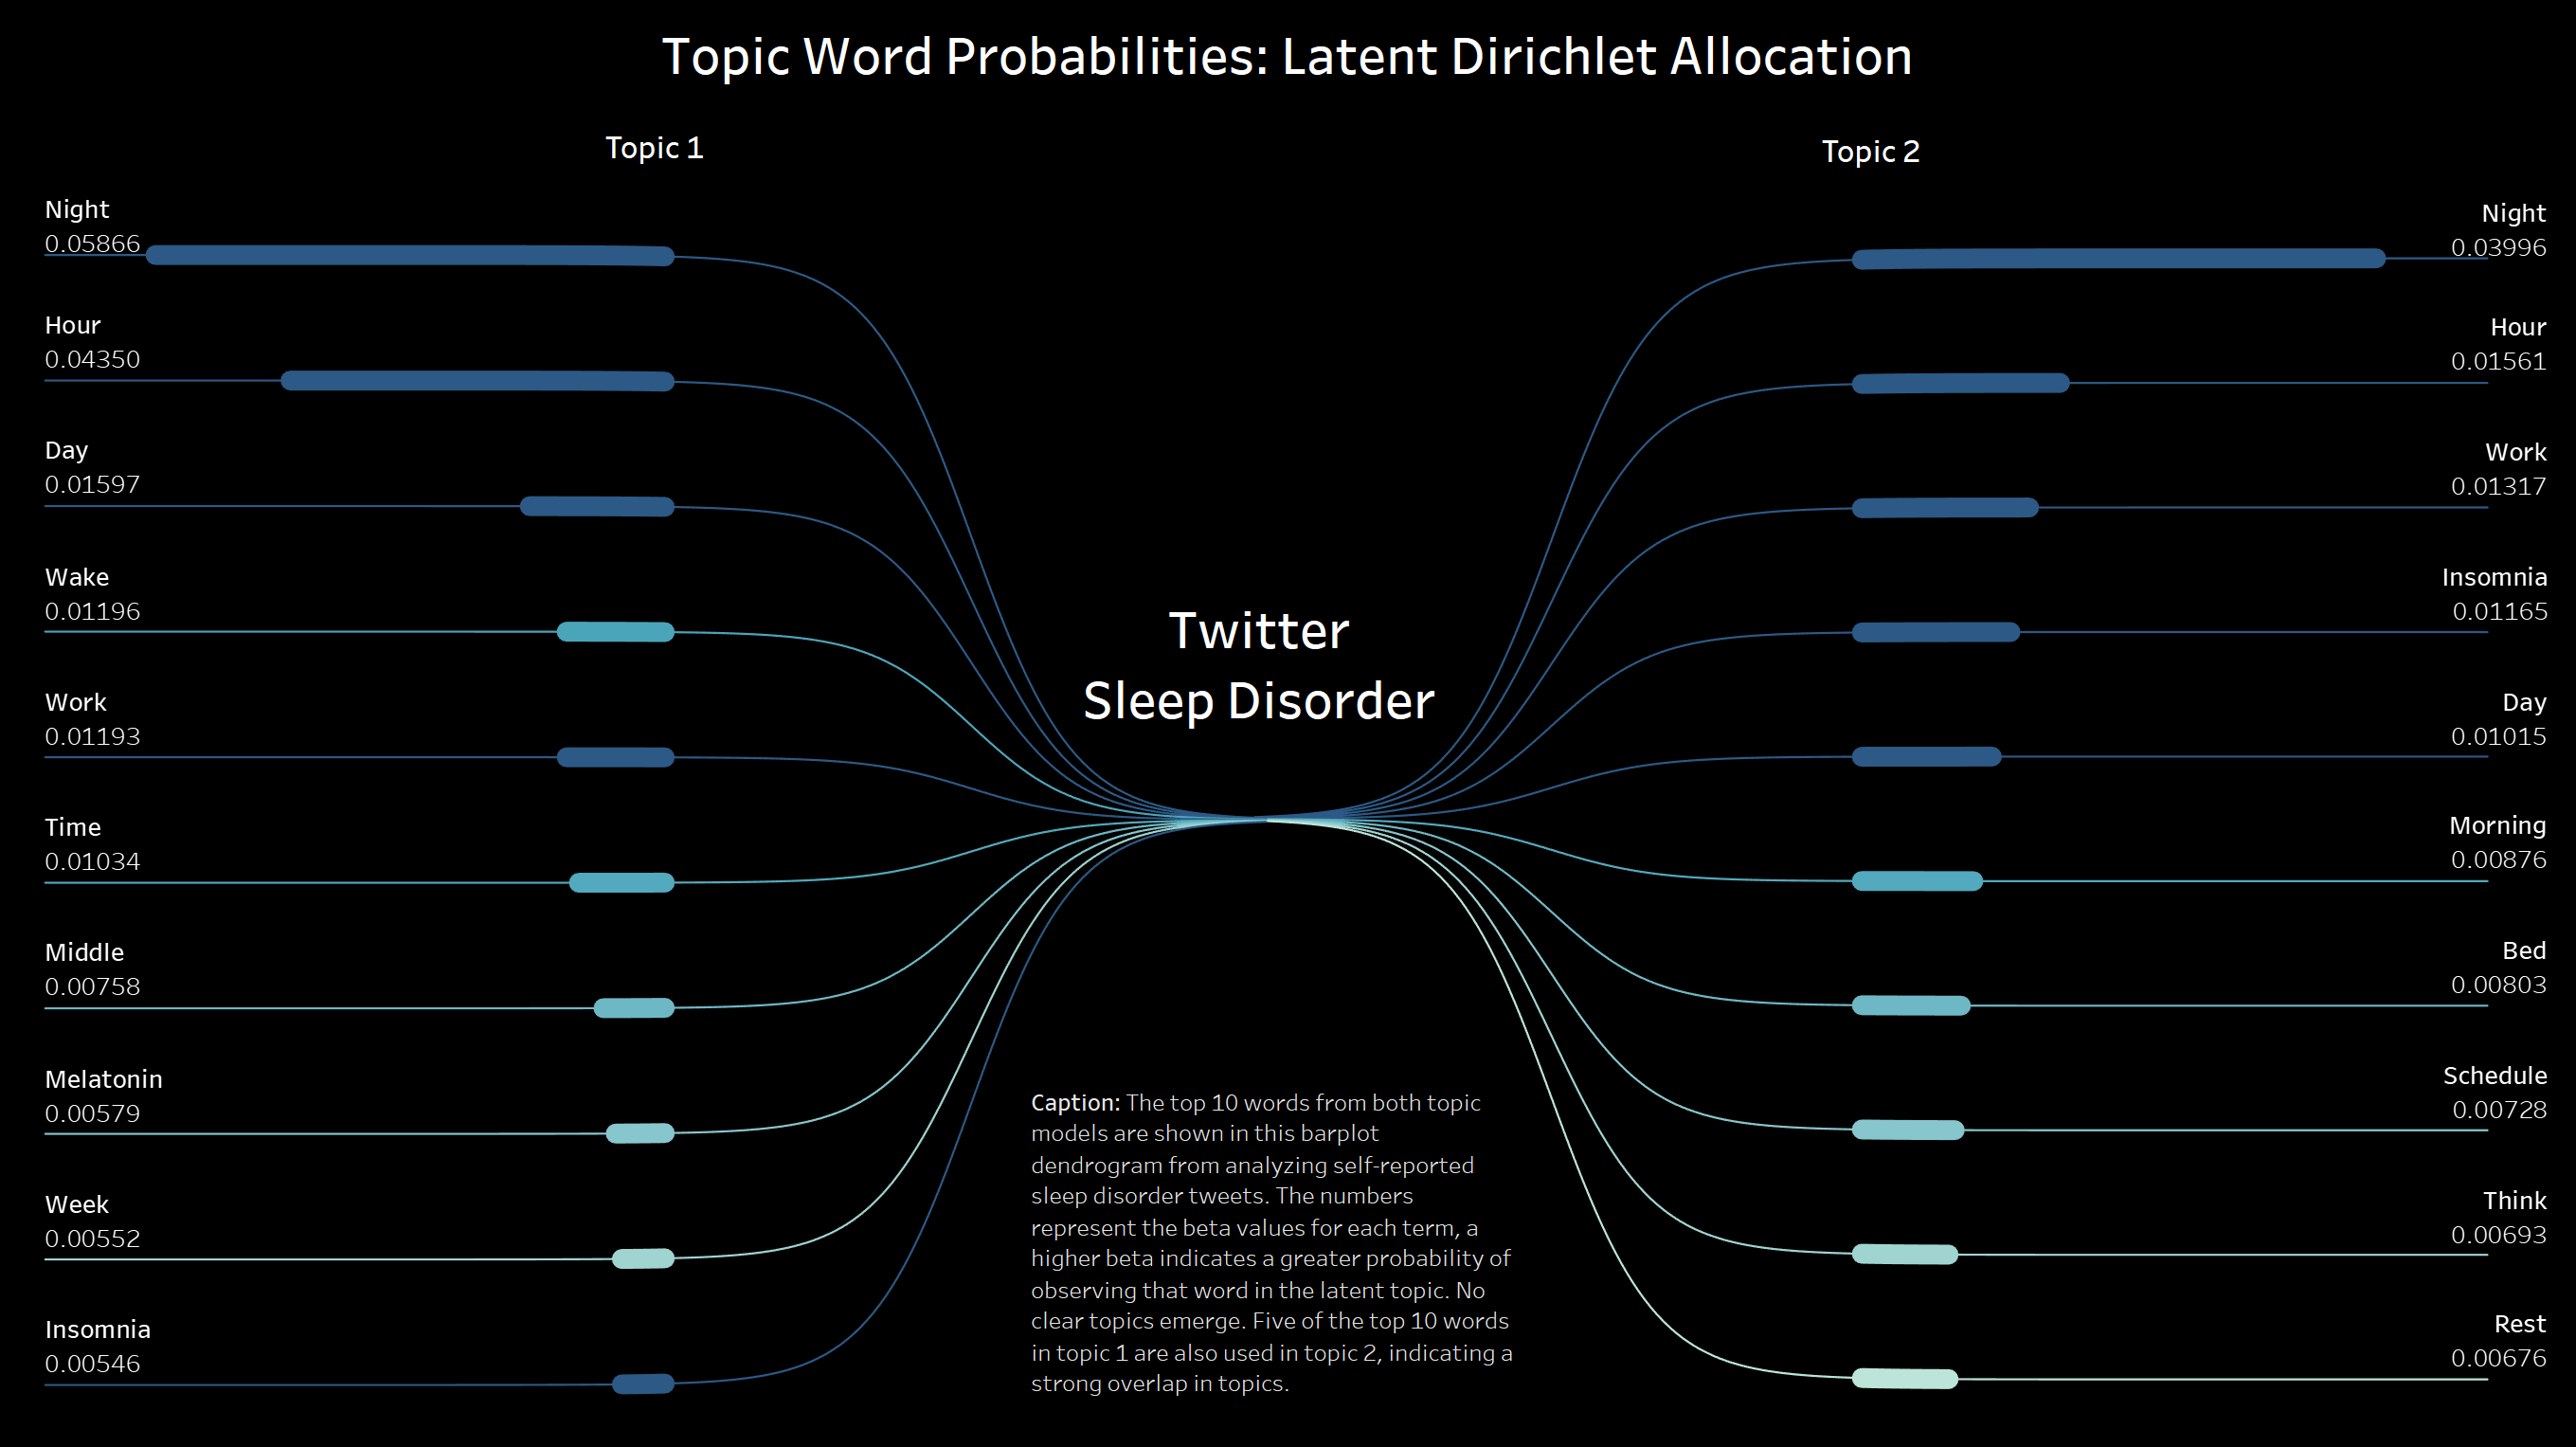

The dashboard page shown, as its layout file describes it:
{"tool":"tableau","page":{"name":"Sleep Dashboard","canvas":[1366,768],"ordinal":8},"visuals":[{"type":"title","box":[8,8,1350,45]},{"type":"worksheet","title":"Sleep LDA","mark":"Line","box":[632,66,718,698]},{"type":"text","box":[572,315,192,74]},{"type":"text","box":[545,571,260,177]}]}

Visuals, with their boxes in screenshot pixels (x1, y1, x2, y2), scaled from the page's 1366x768 canvas onto the 2576x1447 screenshot:
title: x1=15, y1=15, x2=2561, y2=99
"Sleep LDA" worksheet (Line marks): x1=1192, y1=124, x2=2546, y2=1439
text: x1=1079, y1=593, x2=1441, y2=733
text: x1=1028, y1=1076, x2=1518, y2=1409
